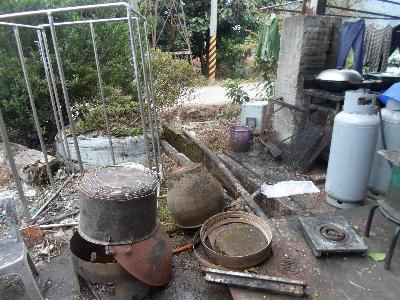bowl: (105, 221, 177, 288), (166, 167, 226, 230), (315, 68, 365, 81)
bucket: (76, 164, 161, 246), (227, 122, 254, 154)
plate: (193, 210, 277, 270)
washing_machine: (240, 101, 270, 137)
